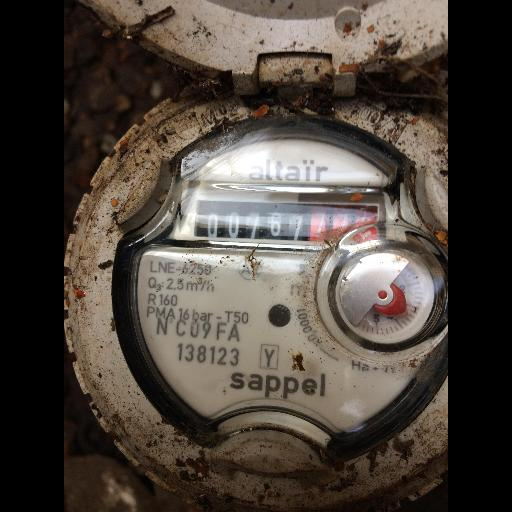0: (205, 200, 222, 238), (226, 202, 243, 239)
6: (268, 203, 284, 240)
7: (311, 203, 328, 243), (246, 201, 263, 239), (290, 203, 306, 241), (335, 205, 351, 243)
border_water_meter_number: (194, 200, 378, 245)
